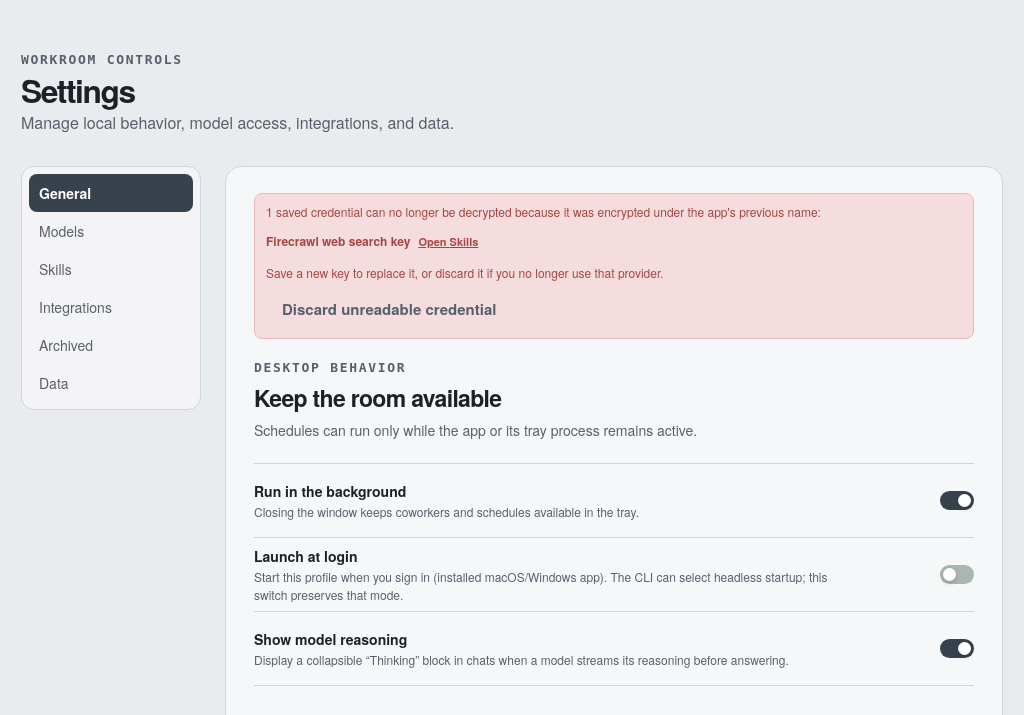
it: credentials encrypted under a previous app identity › discards the unreadable credential so the banner clears
This screenshot has width=1024, height=715.
Click the button "Discard unreadable credential".
click(389, 310)  # box x1=266 y1=290 x2=512 y2=328
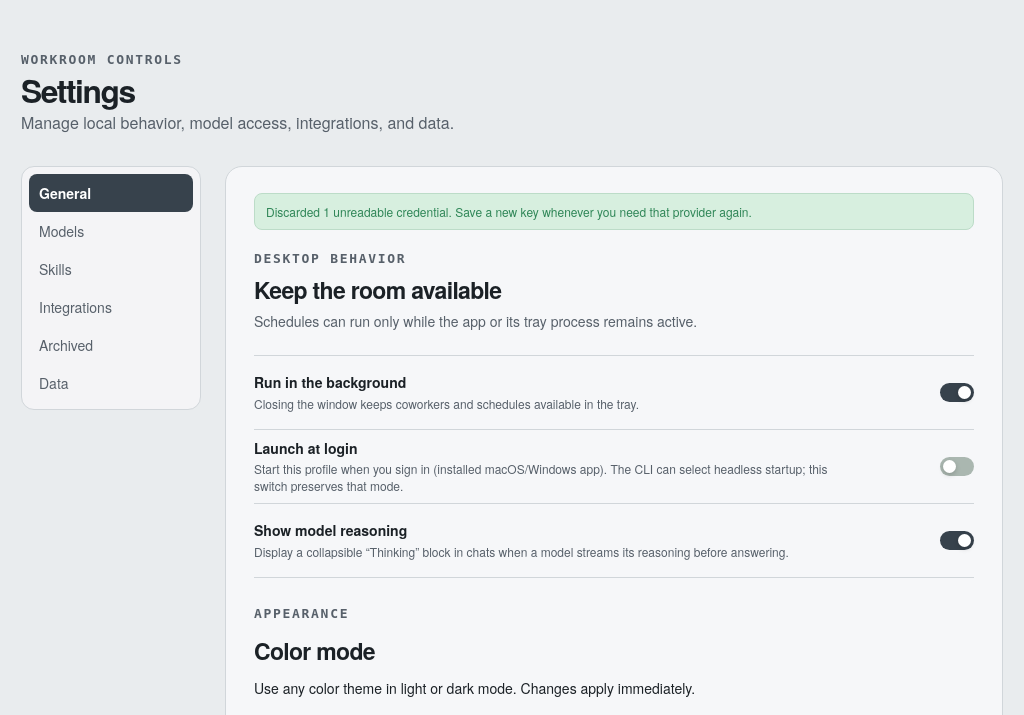
Check: the message shows "Discarded 1 unreadable credential", box x1=266 y1=203 x2=752 y2=220
